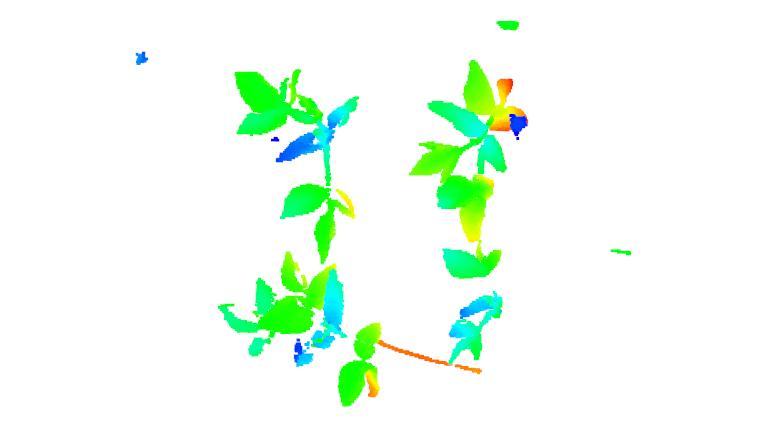mungbean: (227, 65, 363, 264), (216, 249, 386, 408), (408, 59, 531, 241), (438, 244, 508, 366)
